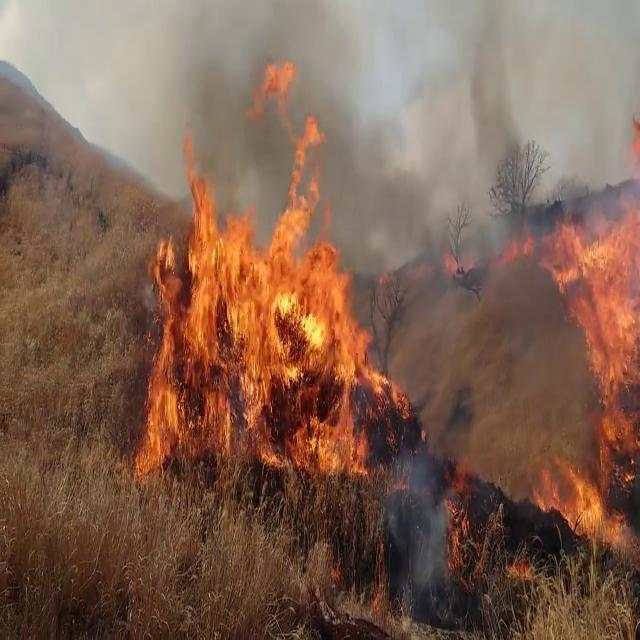Fire: (140, 58, 400, 480), (540, 112, 640, 556), (438, 457, 476, 579), (494, 212, 548, 276)
Smoke: (336, 0, 596, 399), (168, 0, 388, 241), (358, 428, 482, 618)
